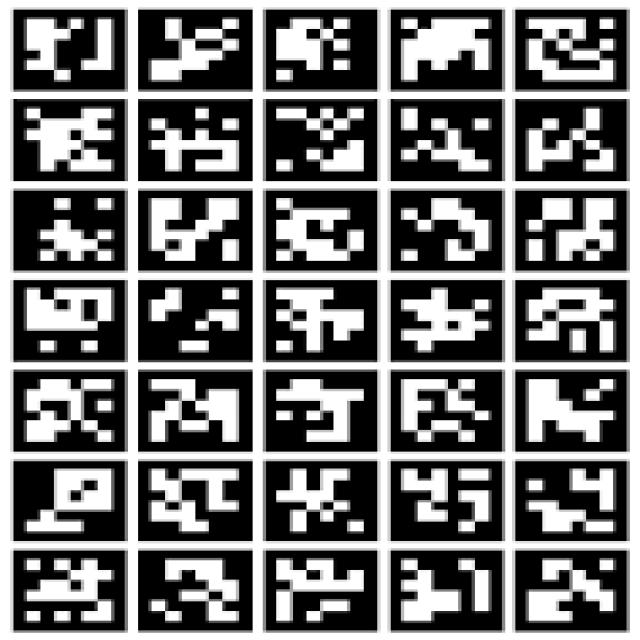aruco: (265, 369, 384, 455), (393, 8, 508, 95), (139, 98, 254, 184), (143, 276, 252, 366), (13, 8, 125, 95), (13, 278, 126, 364), (14, 188, 127, 272), (268, 190, 378, 274), (394, 97, 508, 178), (16, 551, 128, 632), (520, 188, 630, 270), (515, 550, 626, 631), (393, 189, 501, 272), (520, 368, 628, 451), (143, 457, 251, 540), (13, 98, 126, 177), (268, 99, 378, 180), (16, 371, 123, 454), (398, 280, 506, 362), (143, 10, 253, 90), (143, 368, 250, 450), (396, 461, 504, 542), (396, 549, 504, 630), (271, 280, 377, 362), (266, 11, 378, 88), (144, 190, 250, 271), (519, 8, 628, 86), (520, 99, 626, 179), (15, 461, 123, 539), (268, 552, 375, 630), (270, 462, 374, 540), (515, 281, 618, 359), (521, 464, 627, 538), (396, 374, 500, 448), (146, 548, 244, 626)
